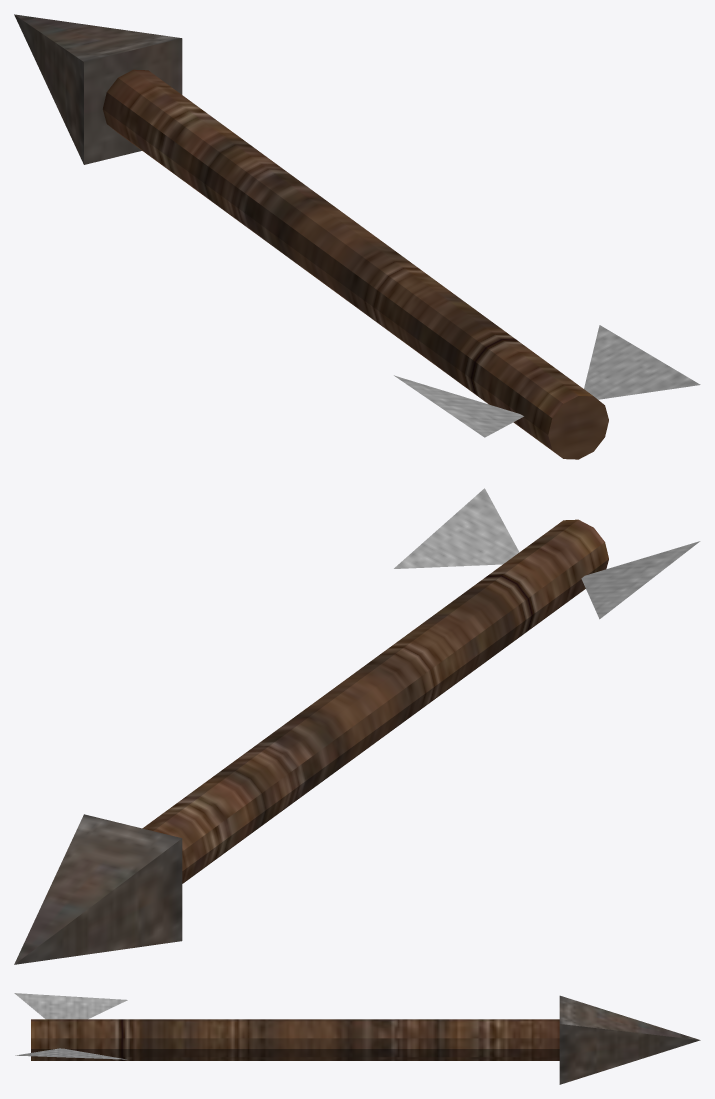
File: bolt.glb
3 views of the same model, one above another, from view 1: azimuth 30°, elevation 25°; view 2: azimuth 150°, elevation 25°; view 3: azimuth 270°, elevation 25° (orthographic). The views are drawn at different scales.
Visible parts, largest first — view 1: Hewn heavy quarrel shaft, Sharpened forged quarrel point, Waxed linen quarrel fletching.001, Waxed linen quarrel fletching; view 2: Hewn heavy quarrel shaft, Sharpened forged quarrel point, Waxed linen quarrel fletching.001, Waxed linen quarrel fletching; view 3: Hewn heavy quarrel shaft, Sharpened forged quarrel point, Waxed linen quarrel fletching, Waxed linen quarrel fletching.001.
Boxes of the visible parts, x1,y1,x2,y2 form: Hewn heavy quarrel shaft: (102, 69, 608, 459); Sharpened forged quarrel point: (14, 14, 182, 164); Waxed linen quarrel fletching.001: (584, 325, 700, 399); Waxed linen quarrel fletching: (394, 375, 523, 437); Hewn heavy quarrel shaft: (142, 519, 608, 883); Sharpened forged quarrel point: (14, 814, 182, 964); Waxed linen quarrel fletching.001: (394, 488, 519, 568); Waxed linen quarrel fletching: (581, 541, 700, 619); Hewn heavy quarrel shaft: (31, 1019, 559, 1060); Sharpened forged quarrel point: (559, 995, 700, 1084); Waxed linen quarrel fletching: (14, 993, 127, 1019); Waxed linen quarrel fletching.001: (15, 1048, 126, 1059).
Bounding box in the file's own units: 0.1402 × 0.0637 × 0.65.
3 materials, 3 textured.
